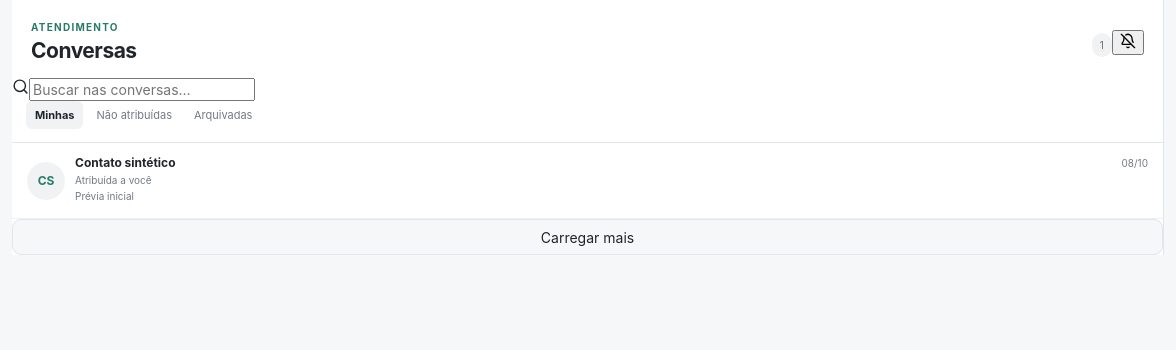
Test case: P1 transport + actual REST projections (synthetic) › does not resurrect revoked inbox previews from a late pagination response
Expected: the text "Prévia inicial" is shown, [75,190,134,202]
What coordinates should you click on to do the following:
click the button "Carregar mais"
I would click on:
 (588, 237)
Its box is [12,219,1163,255].
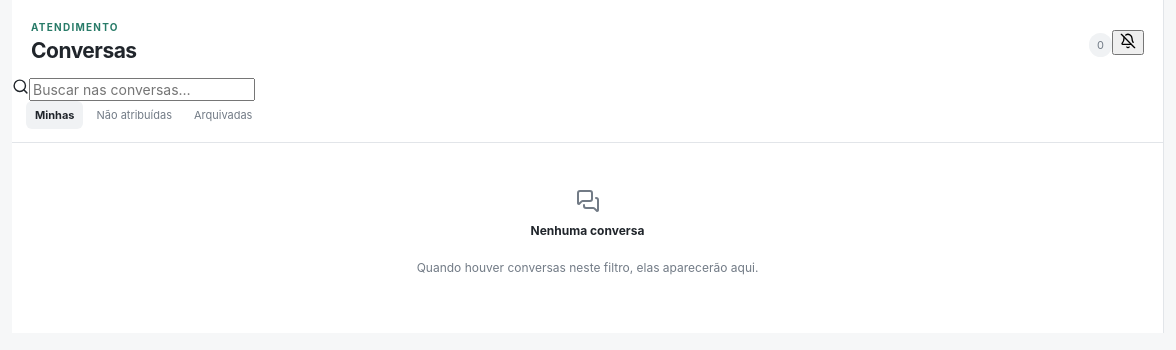
Now the link "Prévia inicial" is gone
